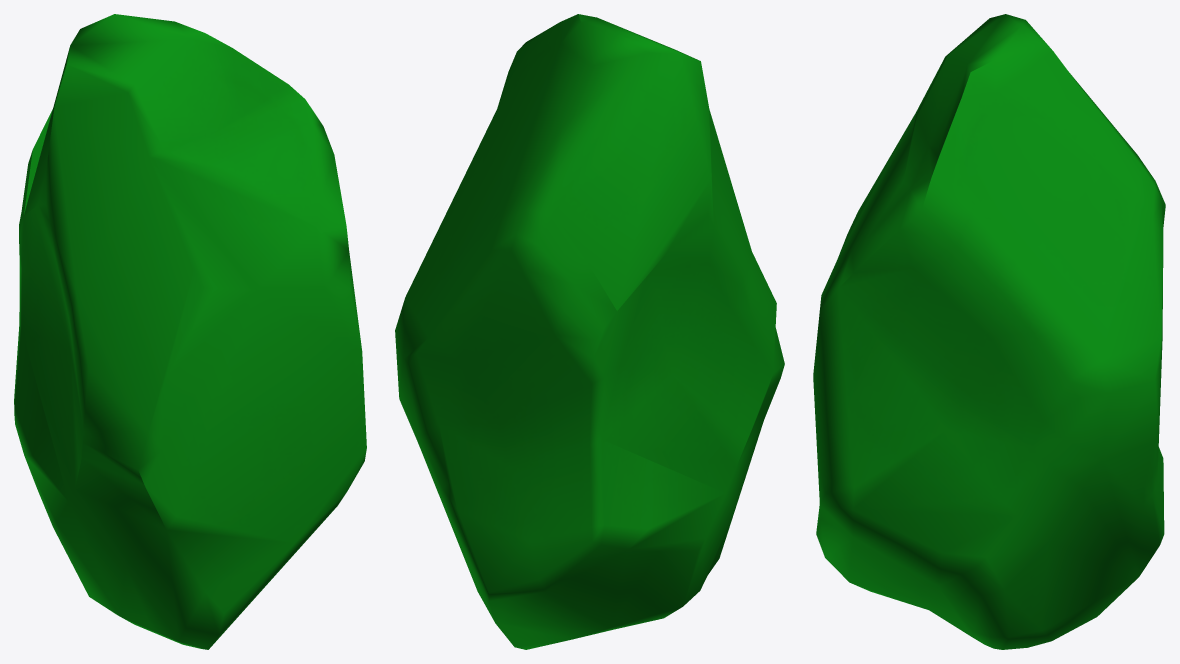
Rendered from Alchemy Crystal 7.fbx.
The picture shows the model from 3 angles, left to right: view 1: azimuth 30°, elevation 25°; view 2: azimuth 150°, elevation 25°; view 3: azimuth 270°, elevation 25°; orthographic projection. The views are drawn at different scales.
Parts seen in each view (by area): view 1: Alchemy_Crystal_7; view 2: Alchemy_Crystal_7; view 3: Alchemy_Crystal_7.
Part boxes in pixels (x1,y1,x2,y2): Alchemy_Crystal_7: [14, 14, 366, 649]; Alchemy_Crystal_7: [395, 14, 784, 649]; Alchemy_Crystal_7: [813, 14, 1165, 649].
Bounding box in the file's own units: 3.11 × 6.44 × 3.58.
Materials: 1 (1 with a texture image).
